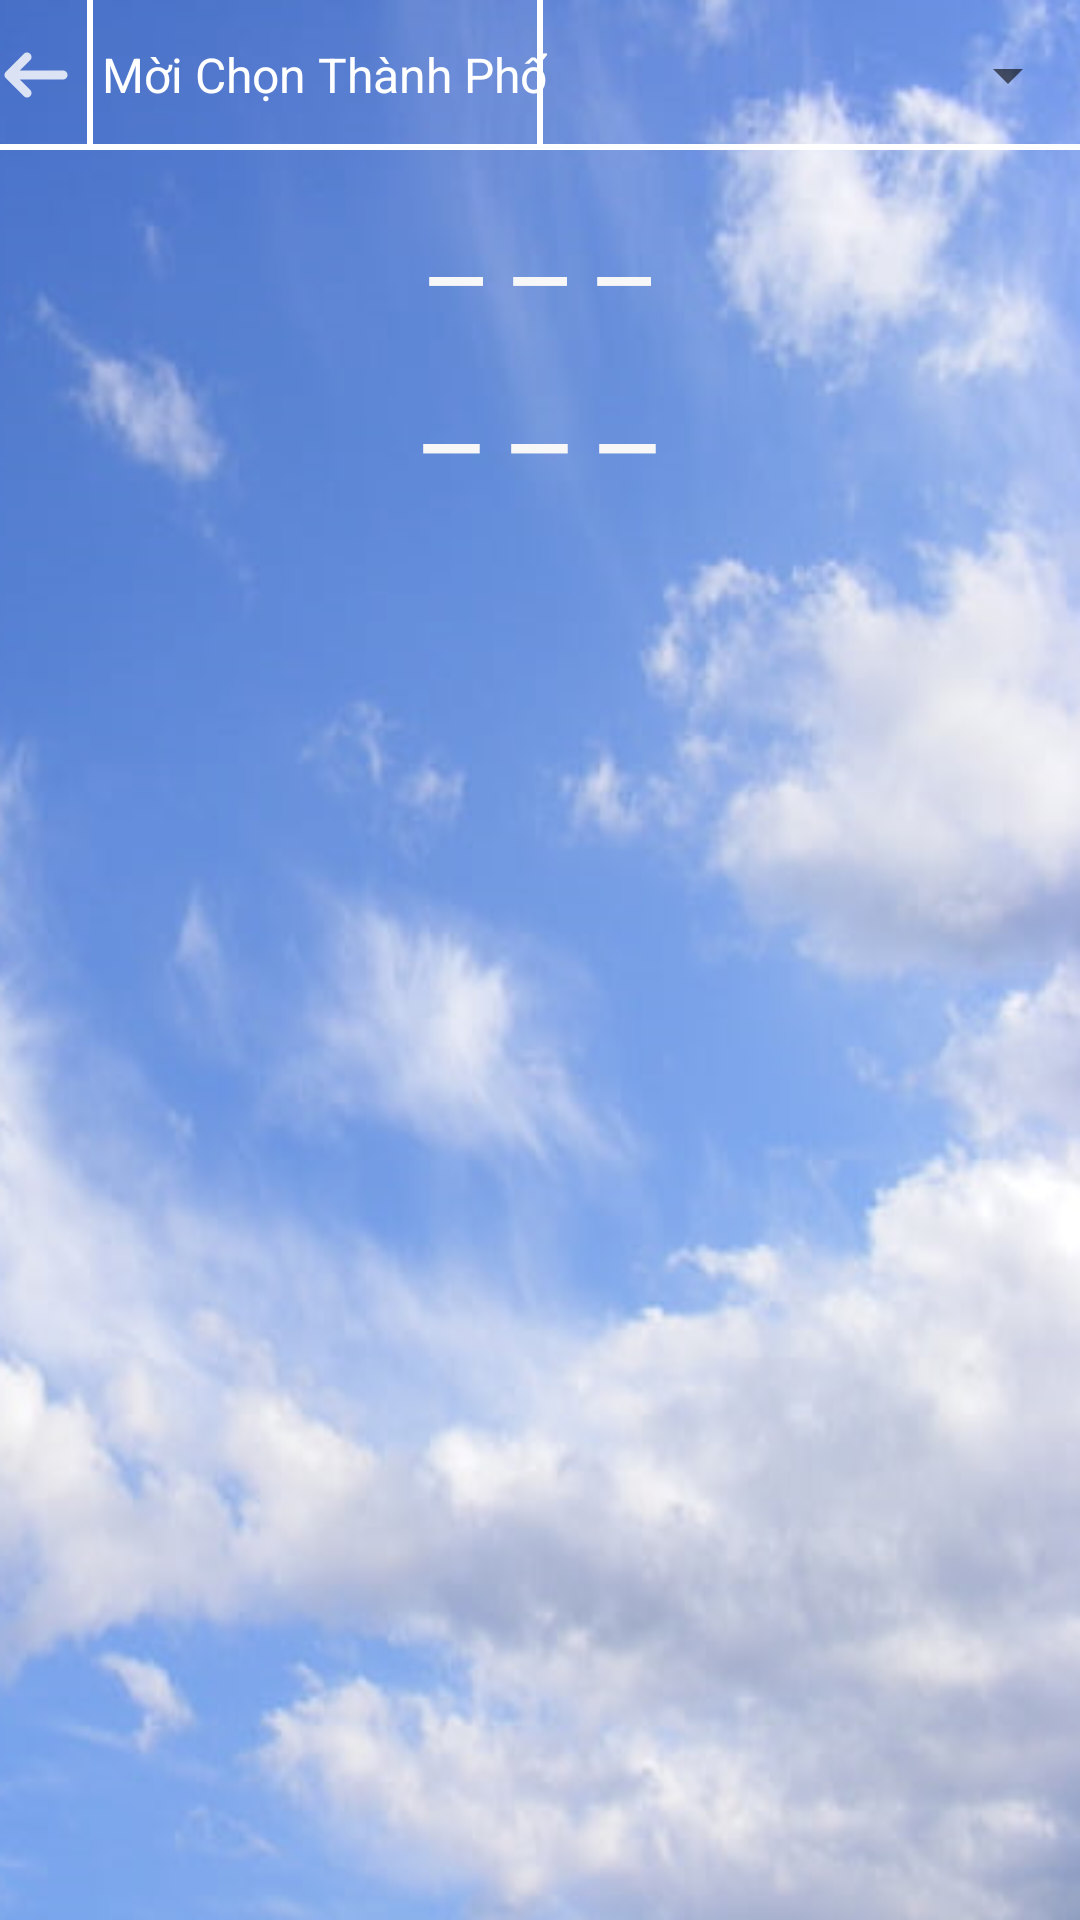

Screen size 1080×1920. Icon name, then its box in pixels as (x1, y1, x2, y2):
back: (4, 52, 68, 98)
